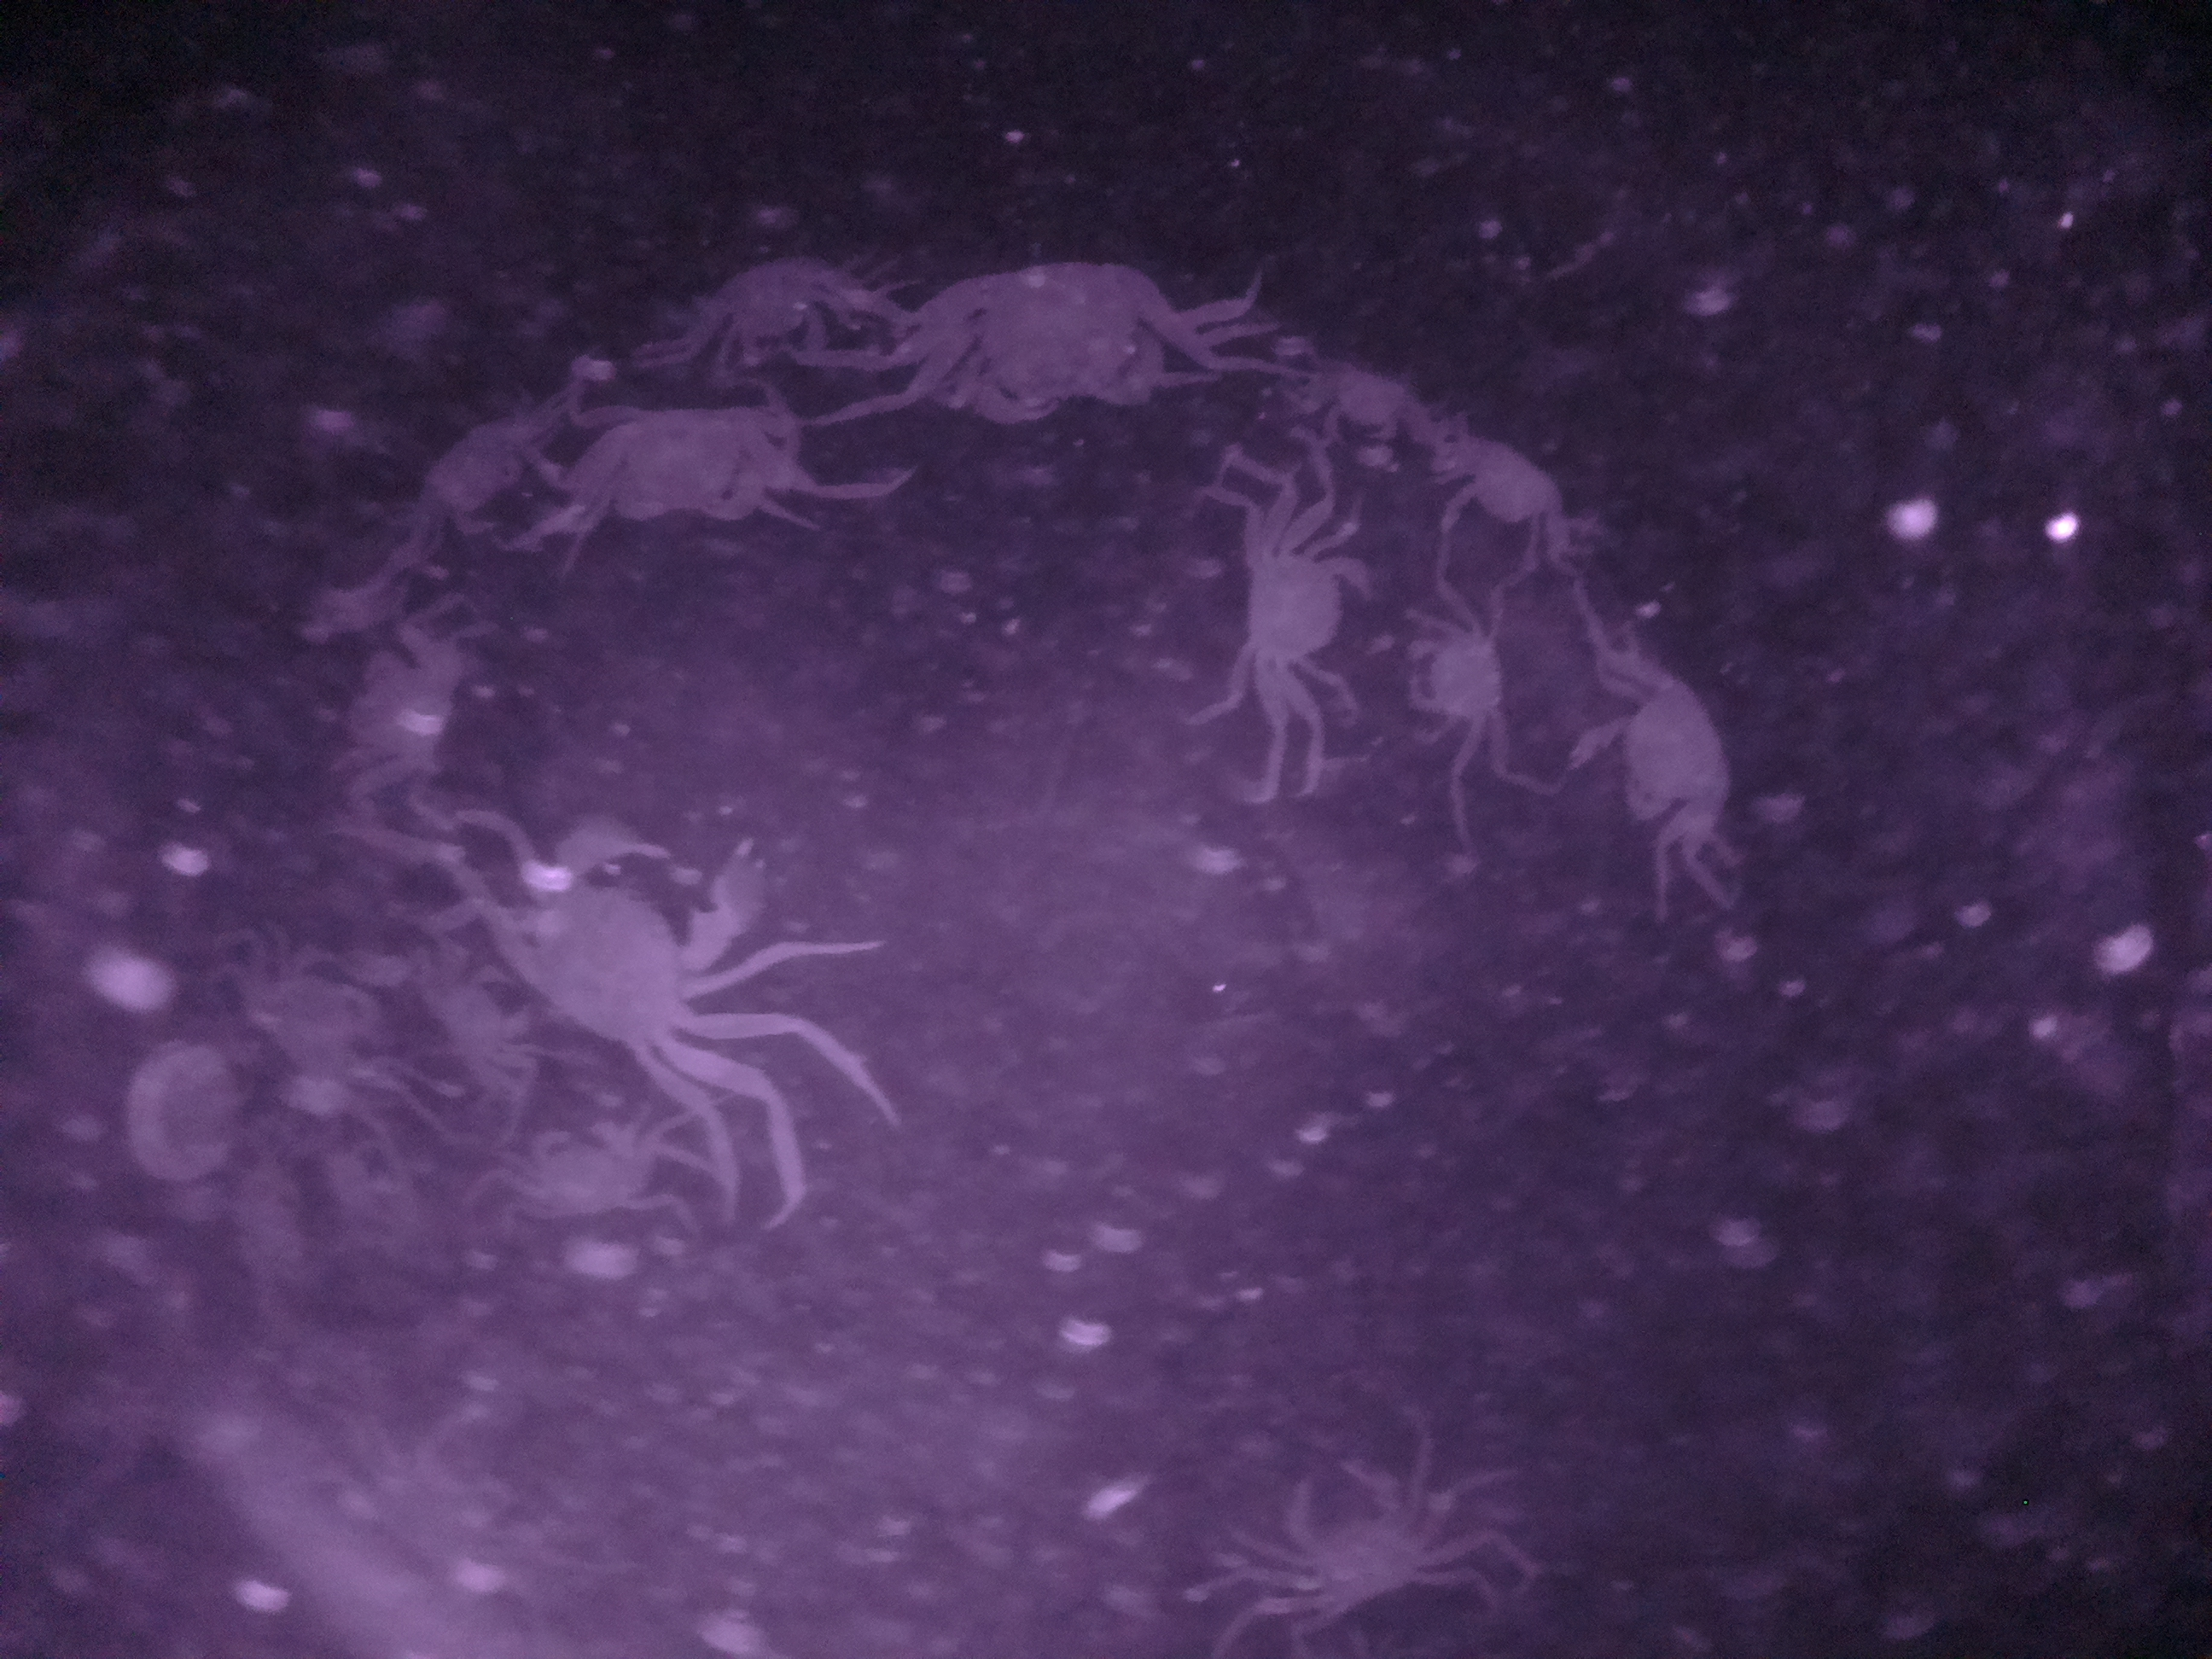Crab: (907, 237, 1204, 439), (545, 392, 817, 544), (1247, 1432, 1449, 1635), (1562, 645, 1752, 843), (1211, 502, 1376, 725), (1392, 592, 1524, 762), (1425, 418, 1571, 565), (1278, 354, 1439, 450)
